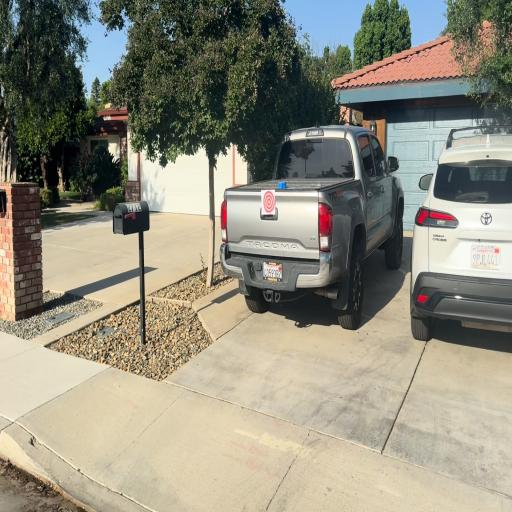bullseye: (262, 189, 275, 215)
